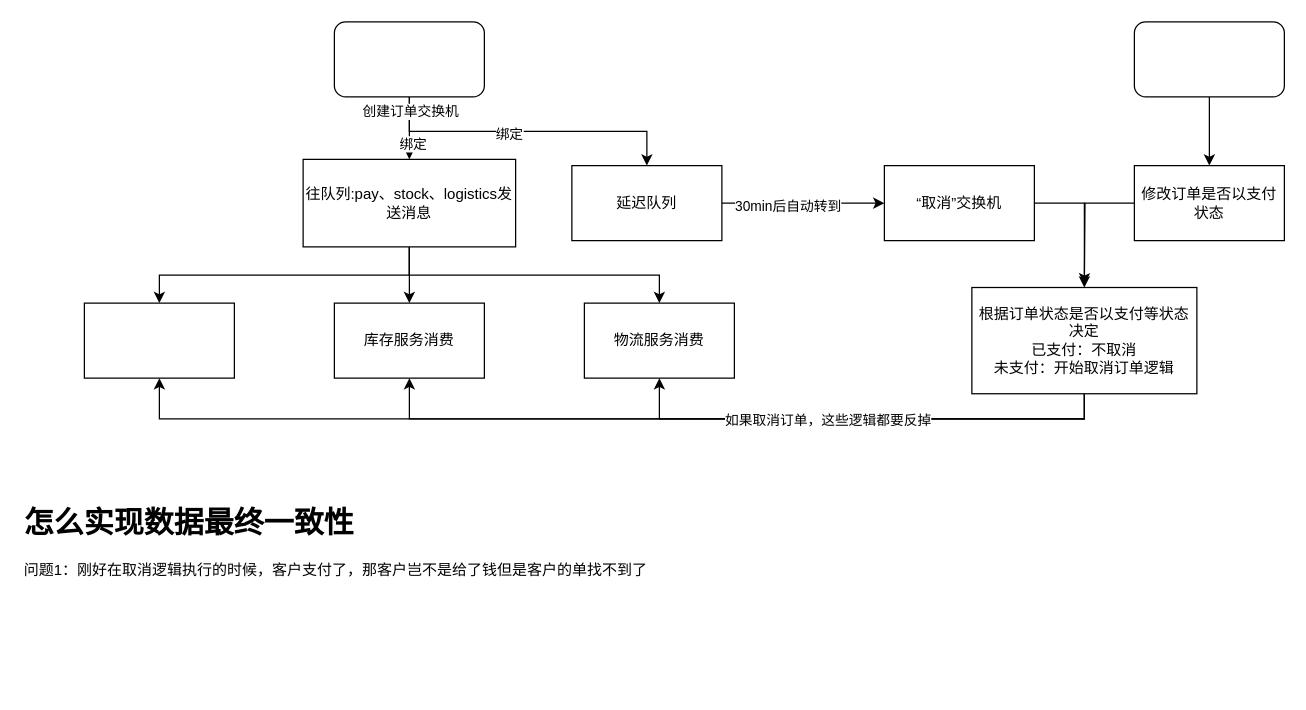
This 1306x710 diagram has some shape labels left out. The box of each missing label's shape, as (x1, y1, x2, y2) in pixels:
创建订单: (333, 21, 484, 97)
支付服务消费: (83, 302, 234, 378)
支付订单: (1133, 21, 1284, 97)
